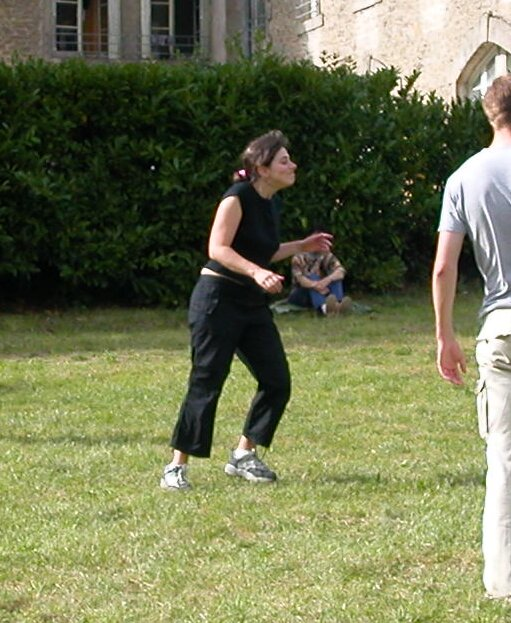person: (158, 128, 340, 493), (427, 68, 511, 605)
